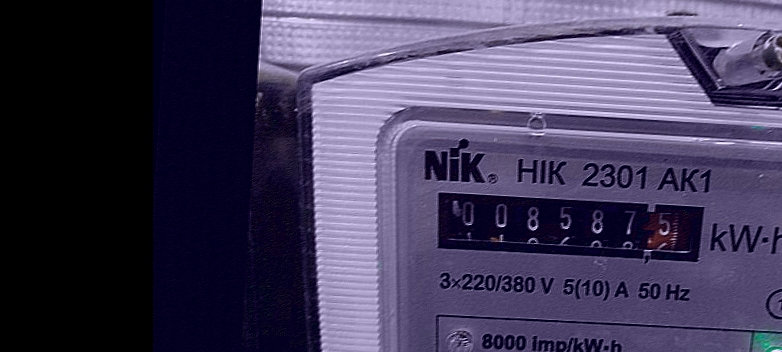0: (459, 197, 478, 227), (493, 200, 512, 229)
5: (657, 209, 676, 239), (557, 203, 576, 232)
7: (621, 206, 640, 237)
8: (589, 205, 608, 236), (525, 203, 543, 232)
screen: (417, 175, 724, 276)
